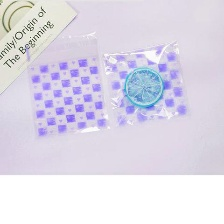snack: (20, 27, 115, 143), (97, 34, 195, 130)
